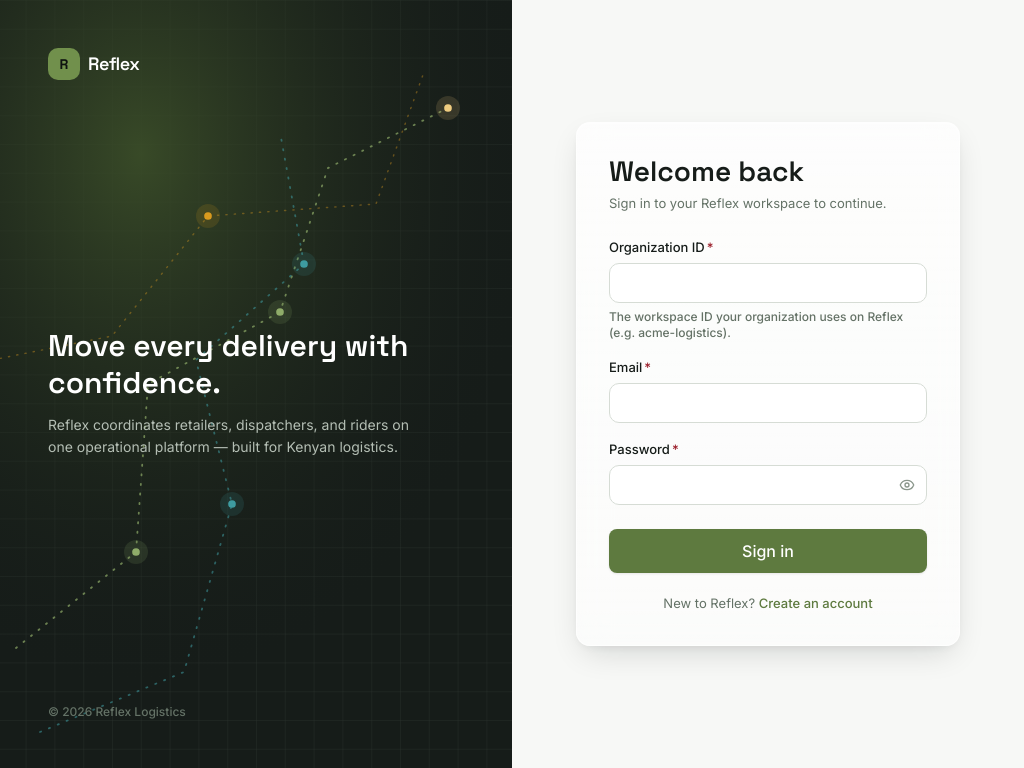
Test: LoginPage › maps a 401 to generic 'incorrect' copy that never implies which field was wrong
Expected: the heading "Welcome back" is shown, [609,153,804,189]
Type "acme-logistics" into the field labelled "Organization ID*" at (768, 283), box [609,263,927,303]
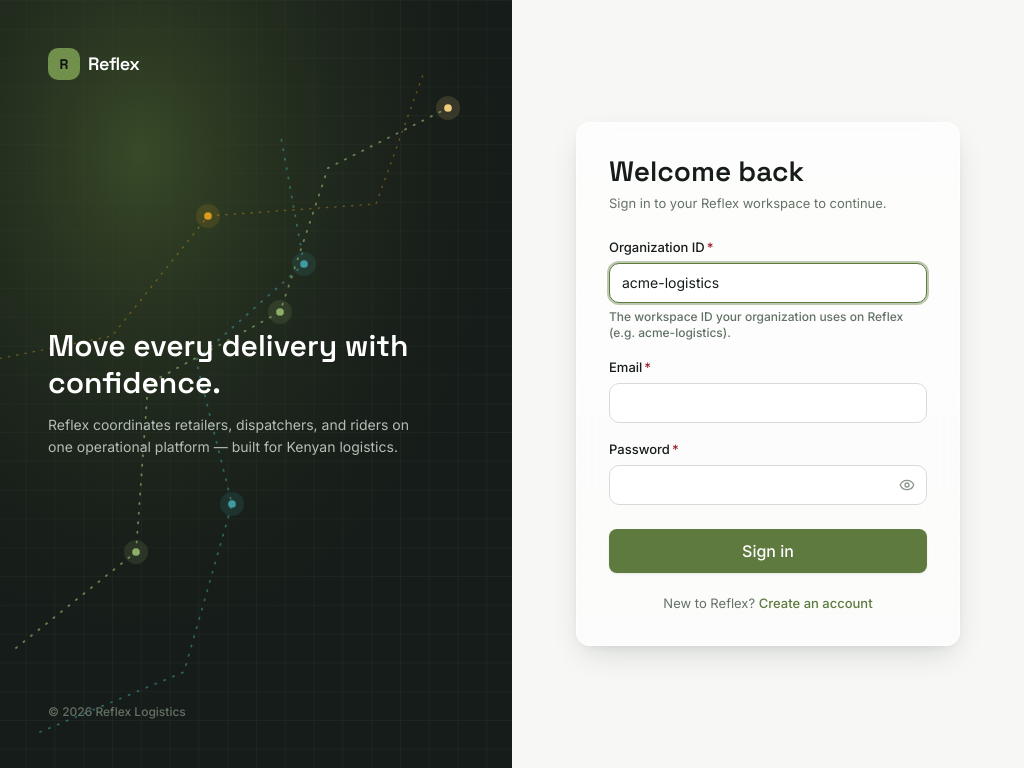
Type "owner@acme-logistics.example" into the field labelled "Email*" at (768, 403), box [609,383,927,423]
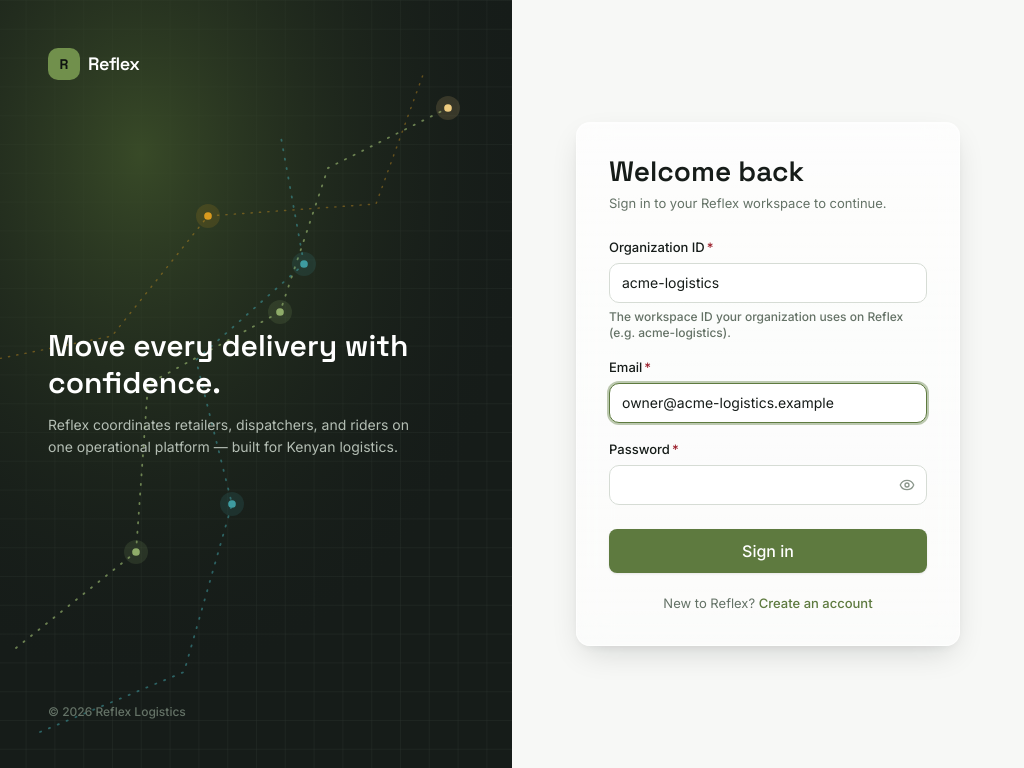
Type "wrong-password" into the password field labelled "Password*" at (768, 485), box [609,465,927,505]
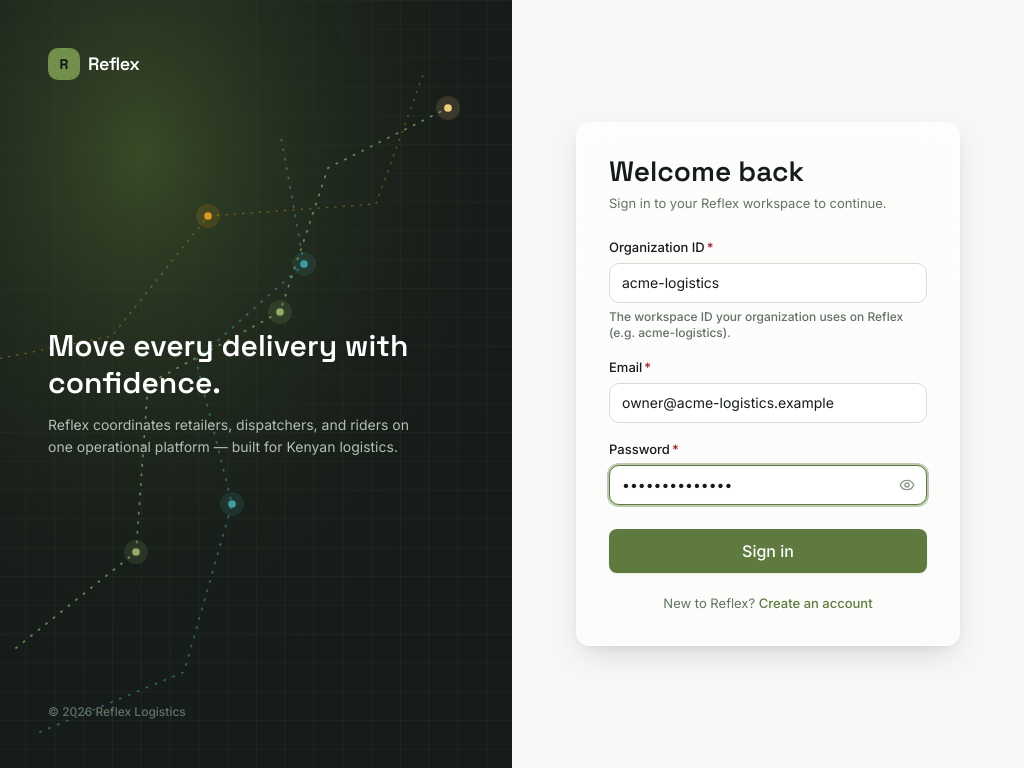
Click the button "Sign in" at (768, 551), box [609,529,927,573]
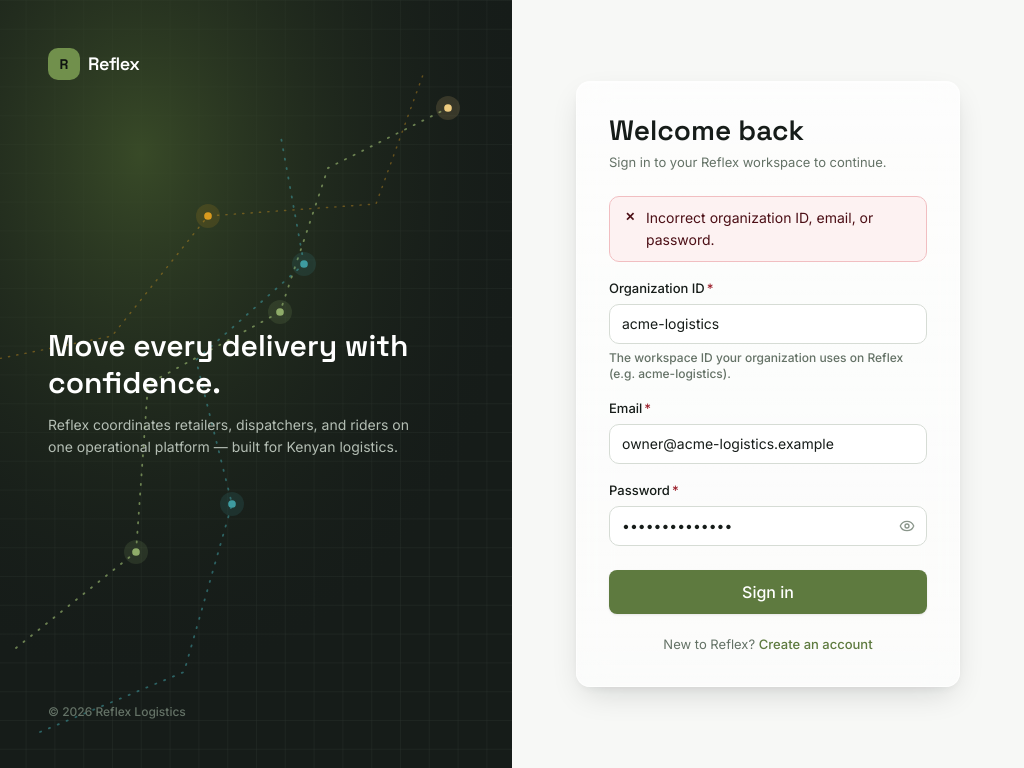
Expected: the text "Incorrect organization ID, email, or password." is shown, [646,209,873,248]
